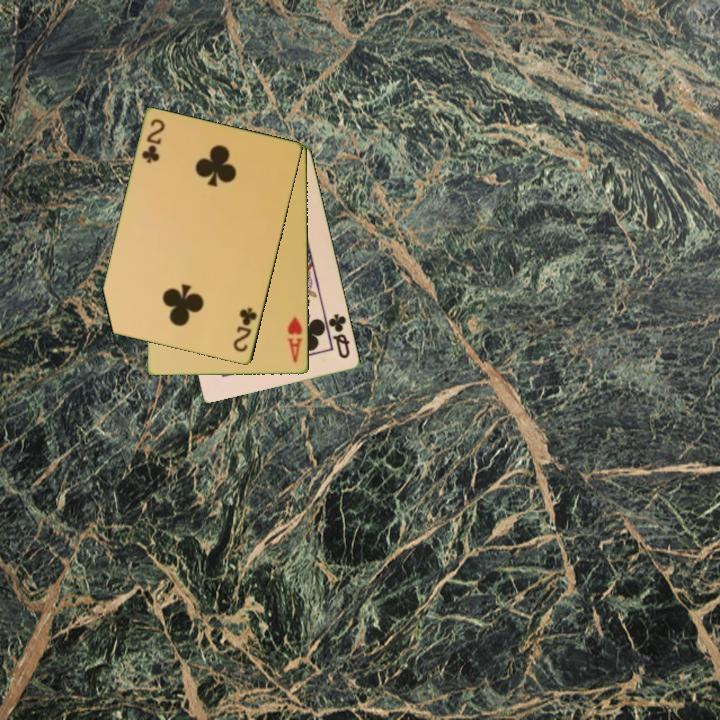2c: (230, 304, 260, 355), (138, 115, 168, 166)
Ah: (284, 313, 306, 365)
Qc: (323, 310, 353, 362)
